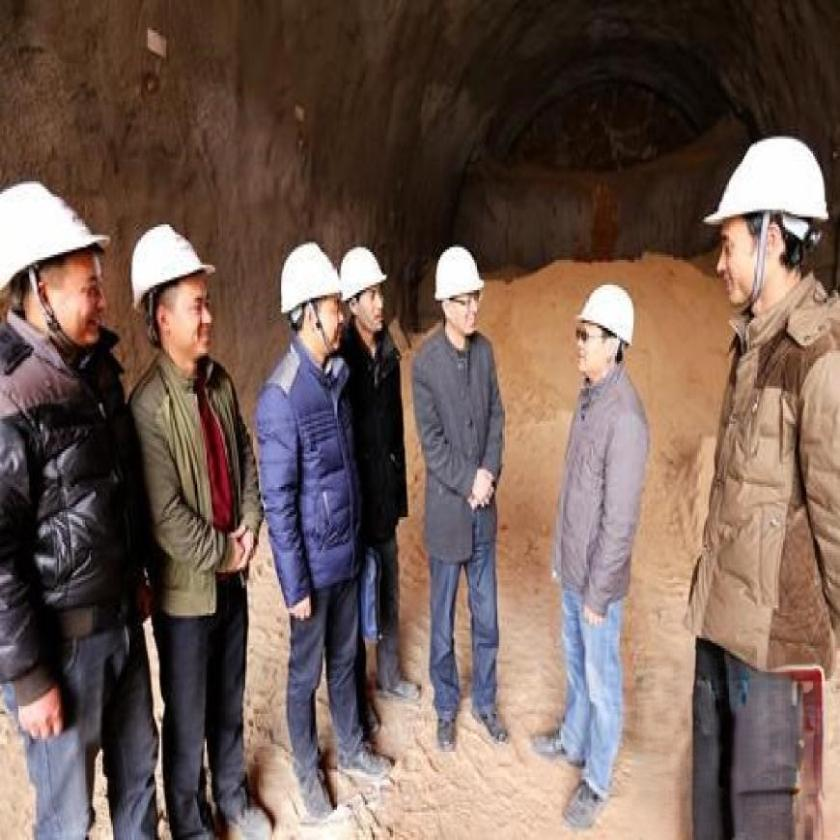Con_casco: (693, 129, 833, 311), (0, 168, 108, 356), (126, 217, 225, 371), (276, 238, 346, 374), (570, 274, 634, 389), (432, 234, 489, 352), (339, 245, 394, 340)
